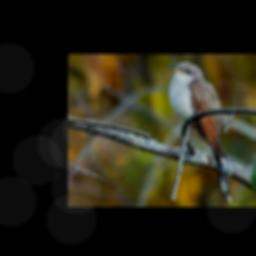Cuckoo: (169, 62, 231, 204)
